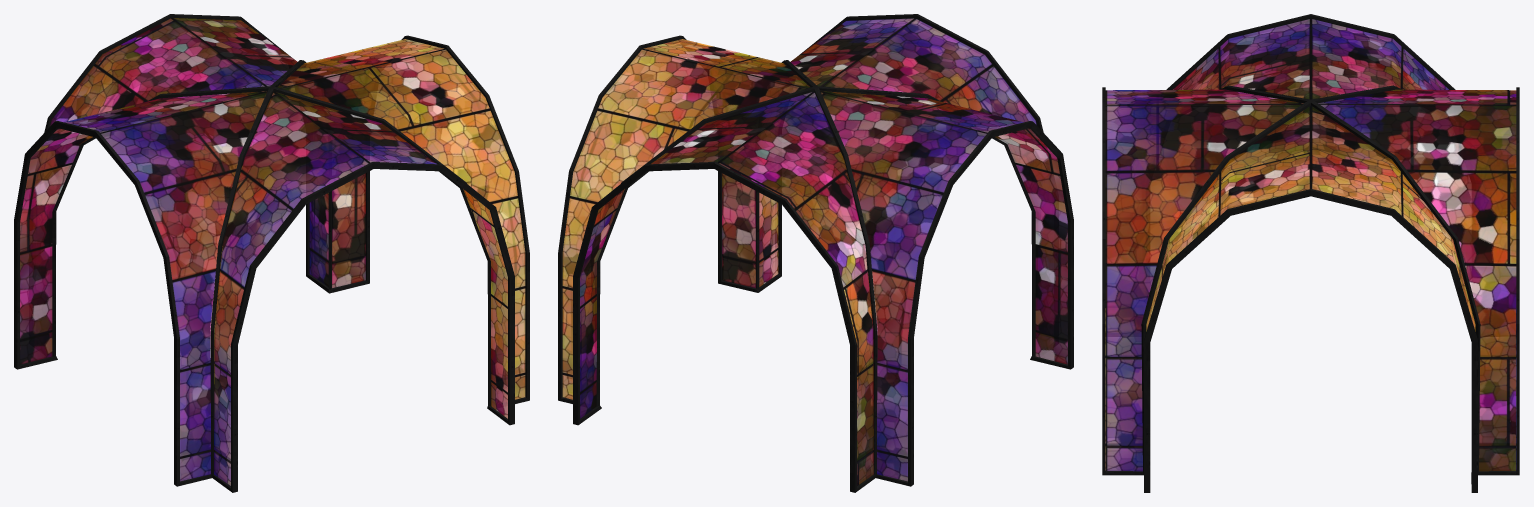
Rendered from pm-iron-structure-01.glb.
3 views of the same model, side by side, from view 1: azimuth 30°, elevation 25°; view 2: azimuth 150°, elevation 25°; view 3: azimuth 270°, elevation 25° (orthographic). The views are drawn at different scales.
Visible parts, largest first — view 1: Iron_Structure_01_Art; view 2: Iron_Structure_01_Art; view 3: Iron_Structure_01_Art.
Boxes of the visible parts, x1,y1,x2,y2 form: Iron_Structure_01_Art: (14, 14, 529, 492); Iron_Structure_01_Art: (558, 14, 1073, 492); Iron_Structure_01_Art: (1102, 14, 1519, 492).
Size of the model in its own units: 7.5 by 6.02 by 7.5.
Materials: 2 (2 with a texture image).
